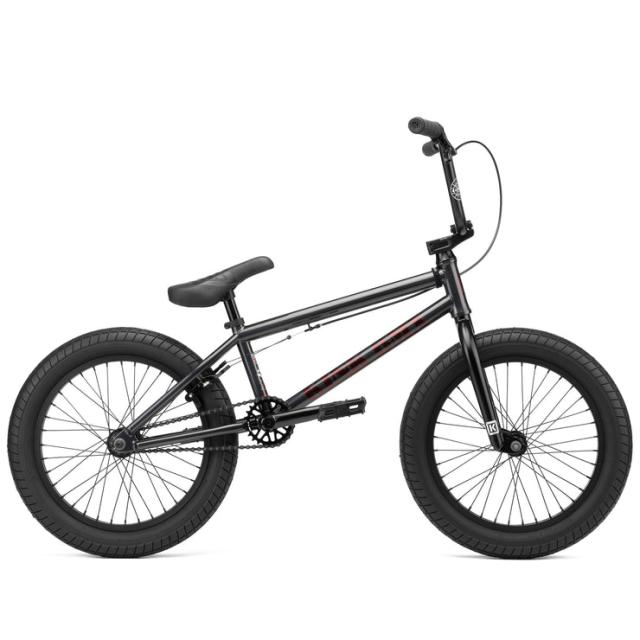bmx-bike: (9, 115, 632, 560)
